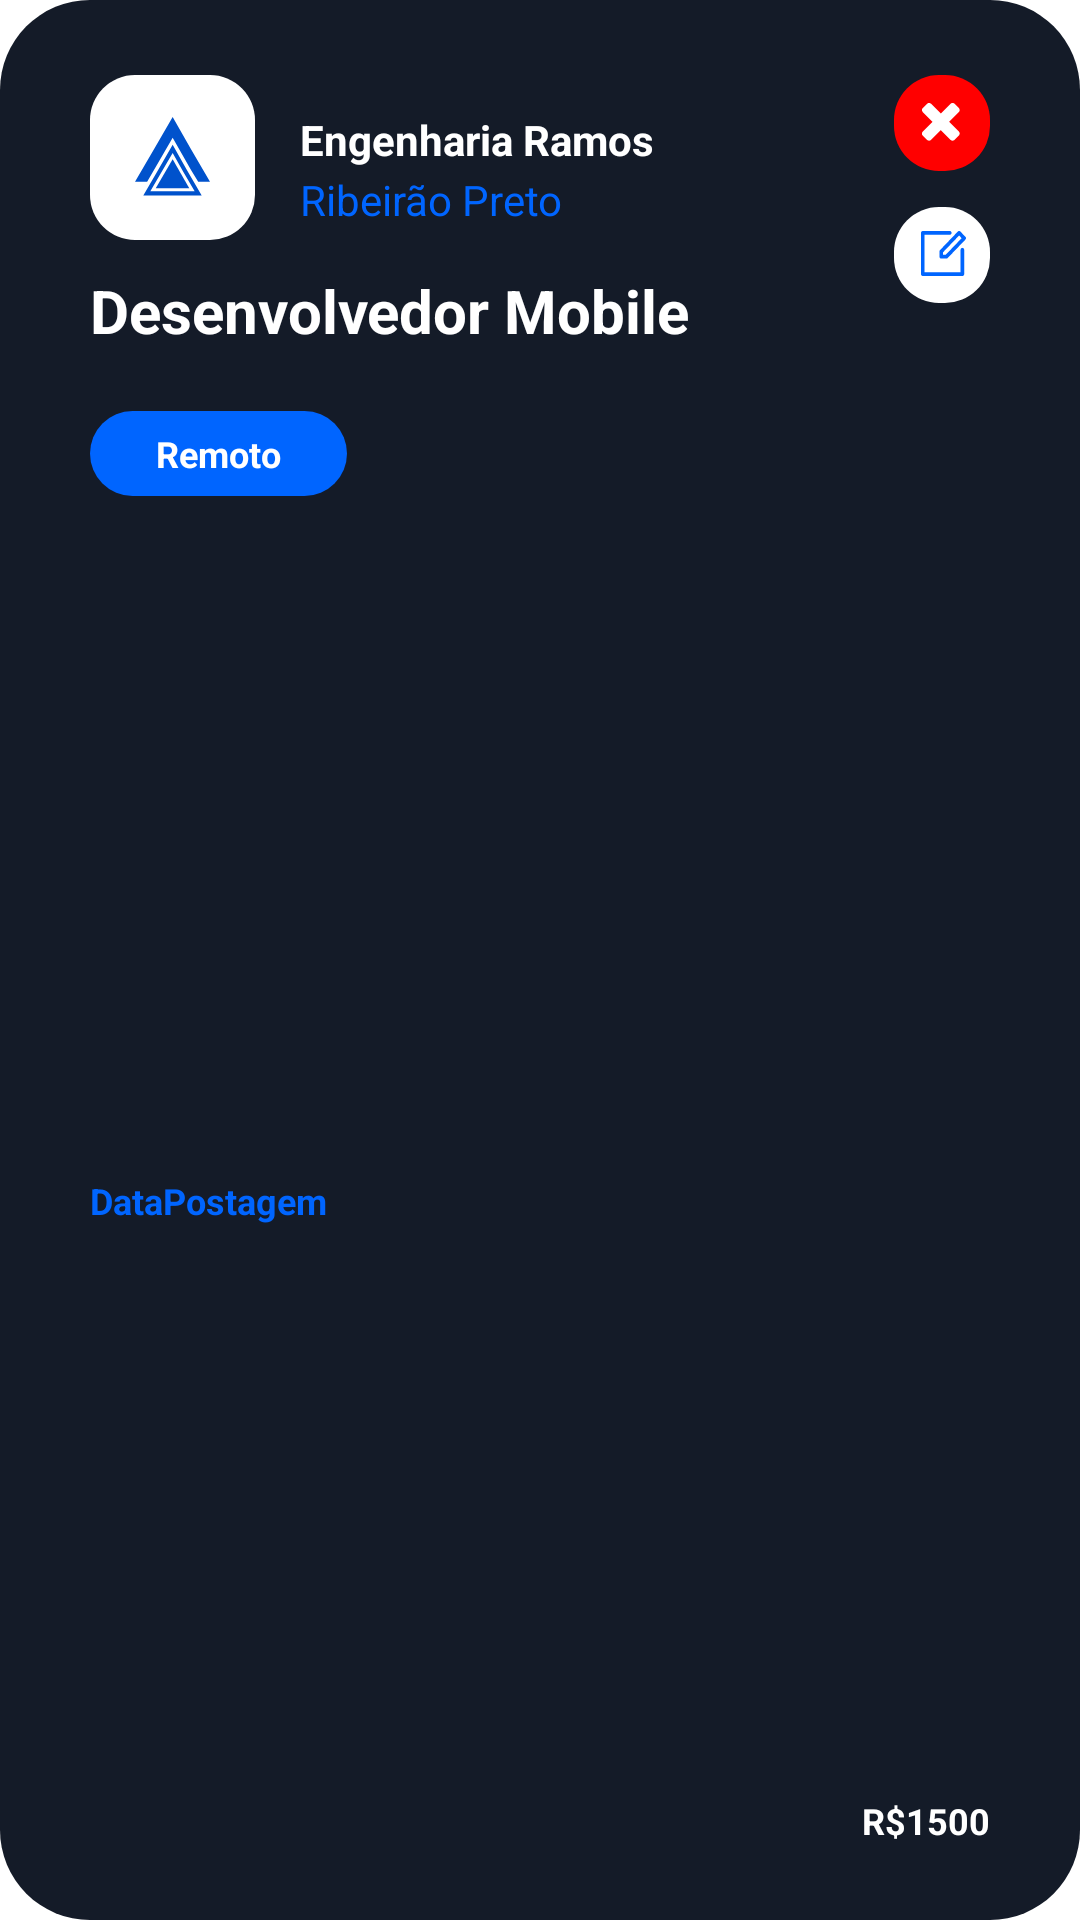

Named icons in this screenshot (1080px×1920px) and their centers, (x,y):
editarvaga: (942,255)
excluir: (942,123)
